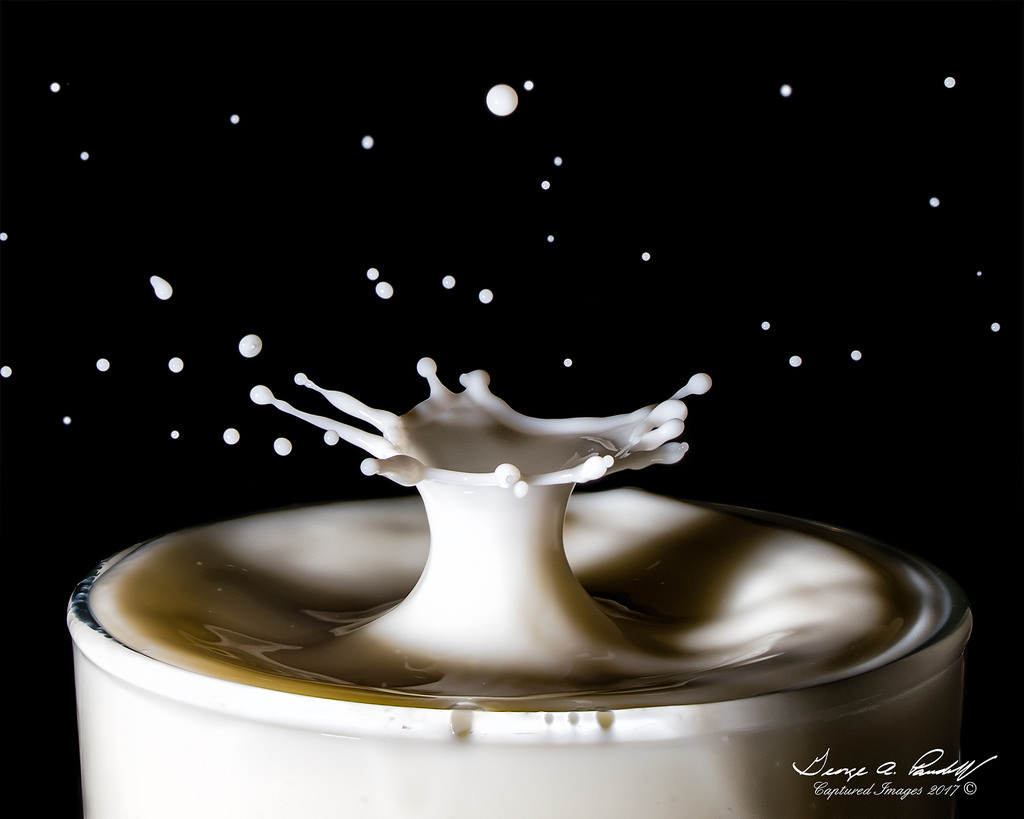glass of milk: (42, 427, 965, 768)
